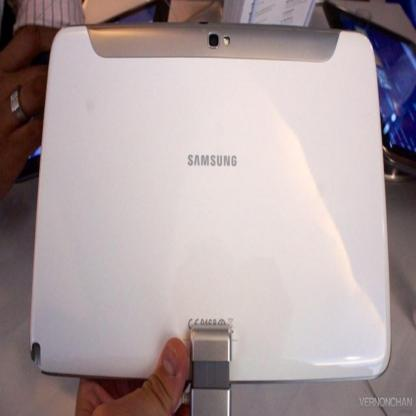board: (22, 21, 390, 381)
